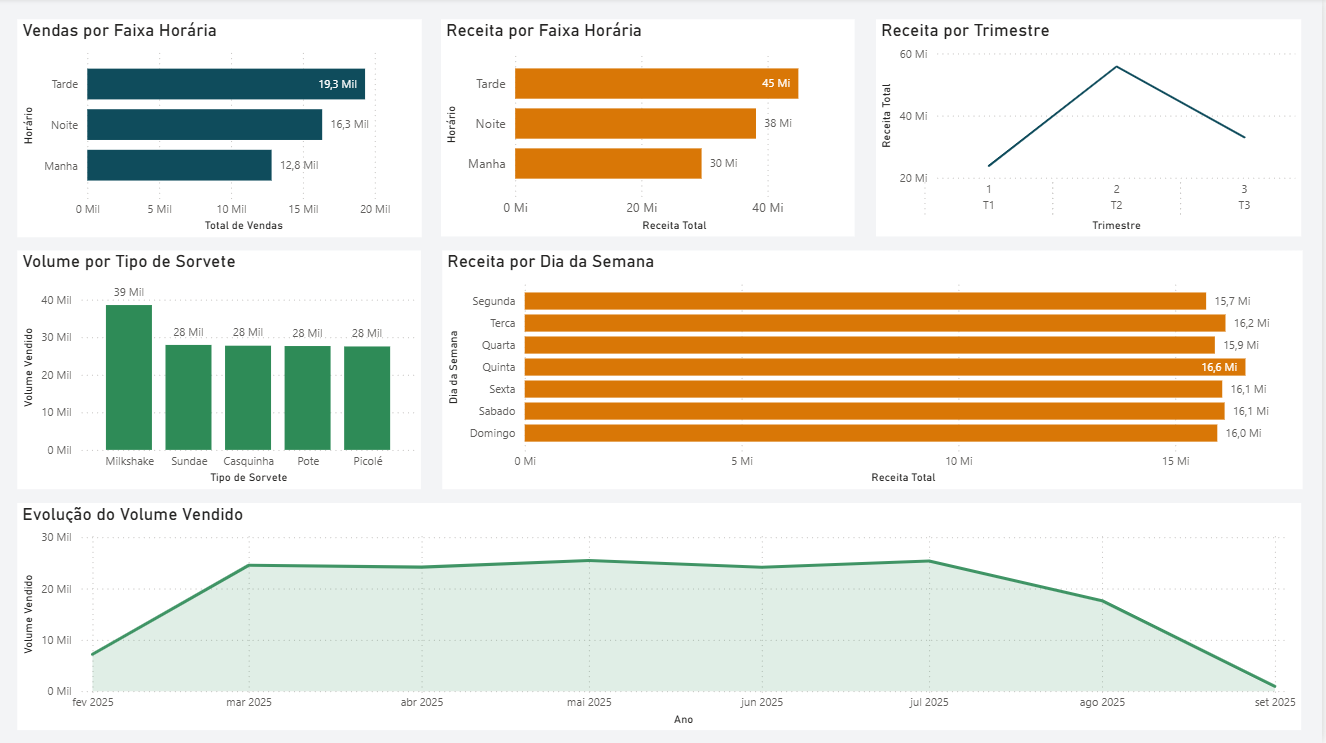

The dashboard page shown, as its layout file describes it:
{"tool":"powerbi","page":{"name":"Visão Operacional","canvas":[1280,720],"ordinal":1},"visuals":[{"type":"clusteredBarChart","title":"Vendas por Faixa Horária","fields":{"Category":["fato_vendas.faixa_horaria","fato_vendas.hora"],"Y":["fato_vendas.Total Vendas"]},"box":[20,20,390,210],"z":0},{"type":"areaChart","title":"Receita por Trimestre","fields":{"Category":["dim_tempo.trimestre","dim_tempo.trimestre_numero"],"Y":["fato_vendas.Receita Total"]},"box":[849.3,20.5,410.2,209.9],"z":1000},{"type":"barChart","title":"Receita por Faixa Horária","fields":{"Y":["fato_vendas.Receita Total"],"Category":["fato_vendas.Horário"]},"box":[429.5,20.5,399.3,209.9],"z":2000},{"type":"clusteredColumnChart","title":"Volume por Tipo de Sorvete","fields":{"Category":["dim_produtos.Tipo de Sorvete"],"Y":["fato_vendas.Volume Vendido"]},"box":[20.5,243.7,389.7,230.4],"z":3000},{"type":"clusteredBarChart","title":"Receita por Dia da Semana","fields":{"Y":["fato_vendas.Receita Total"],"Category":["dim_tempo.Dia da Semana"]},"box":[430.7,243.7,830,230.4],"z":4000},{"type":"areaChart","title":"Evolução do Volume Vendido","fields":{"Category":["dim_tempo.ano_mes.Variation.Hierarquia de datas.Ano","dim_tempo.ano_mes.Variation.Hierarquia de datas.Trimestre","dim_tempo.ano_mes.Variation.Hierarquia de datas.Mês","dim_tempo.ano_mes.Variation.Hierarquia de datas.Dia"],"Y":["fato_vendas.Volume Vendido"]},"box":[20.5,487.4,1239,219.6],"z":5000}]}

Visuals, with their boxes in screenshot pixels (x1, y1, x2, y2), scaled from the page's 1280x720 canvas onto the 1326x743 screenshot:
"Vendas por Faixa Horária" clusteredBarChart: l=21, t=21, r=425, b=237
"Receita por Trimestre" areaChart: l=880, t=21, r=1305, b=238
"Receita por Faixa Horária" barChart: l=445, t=21, r=859, b=238
"Volume por Tipo de Sorvete" clusteredColumnChart: l=21, t=251, r=425, b=489
"Receita por Dia da Semana" clusteredBarChart: l=446, t=251, r=1306, b=489
"Evolução do Volume Vendido" areaChart: l=21, t=503, r=1305, b=730
